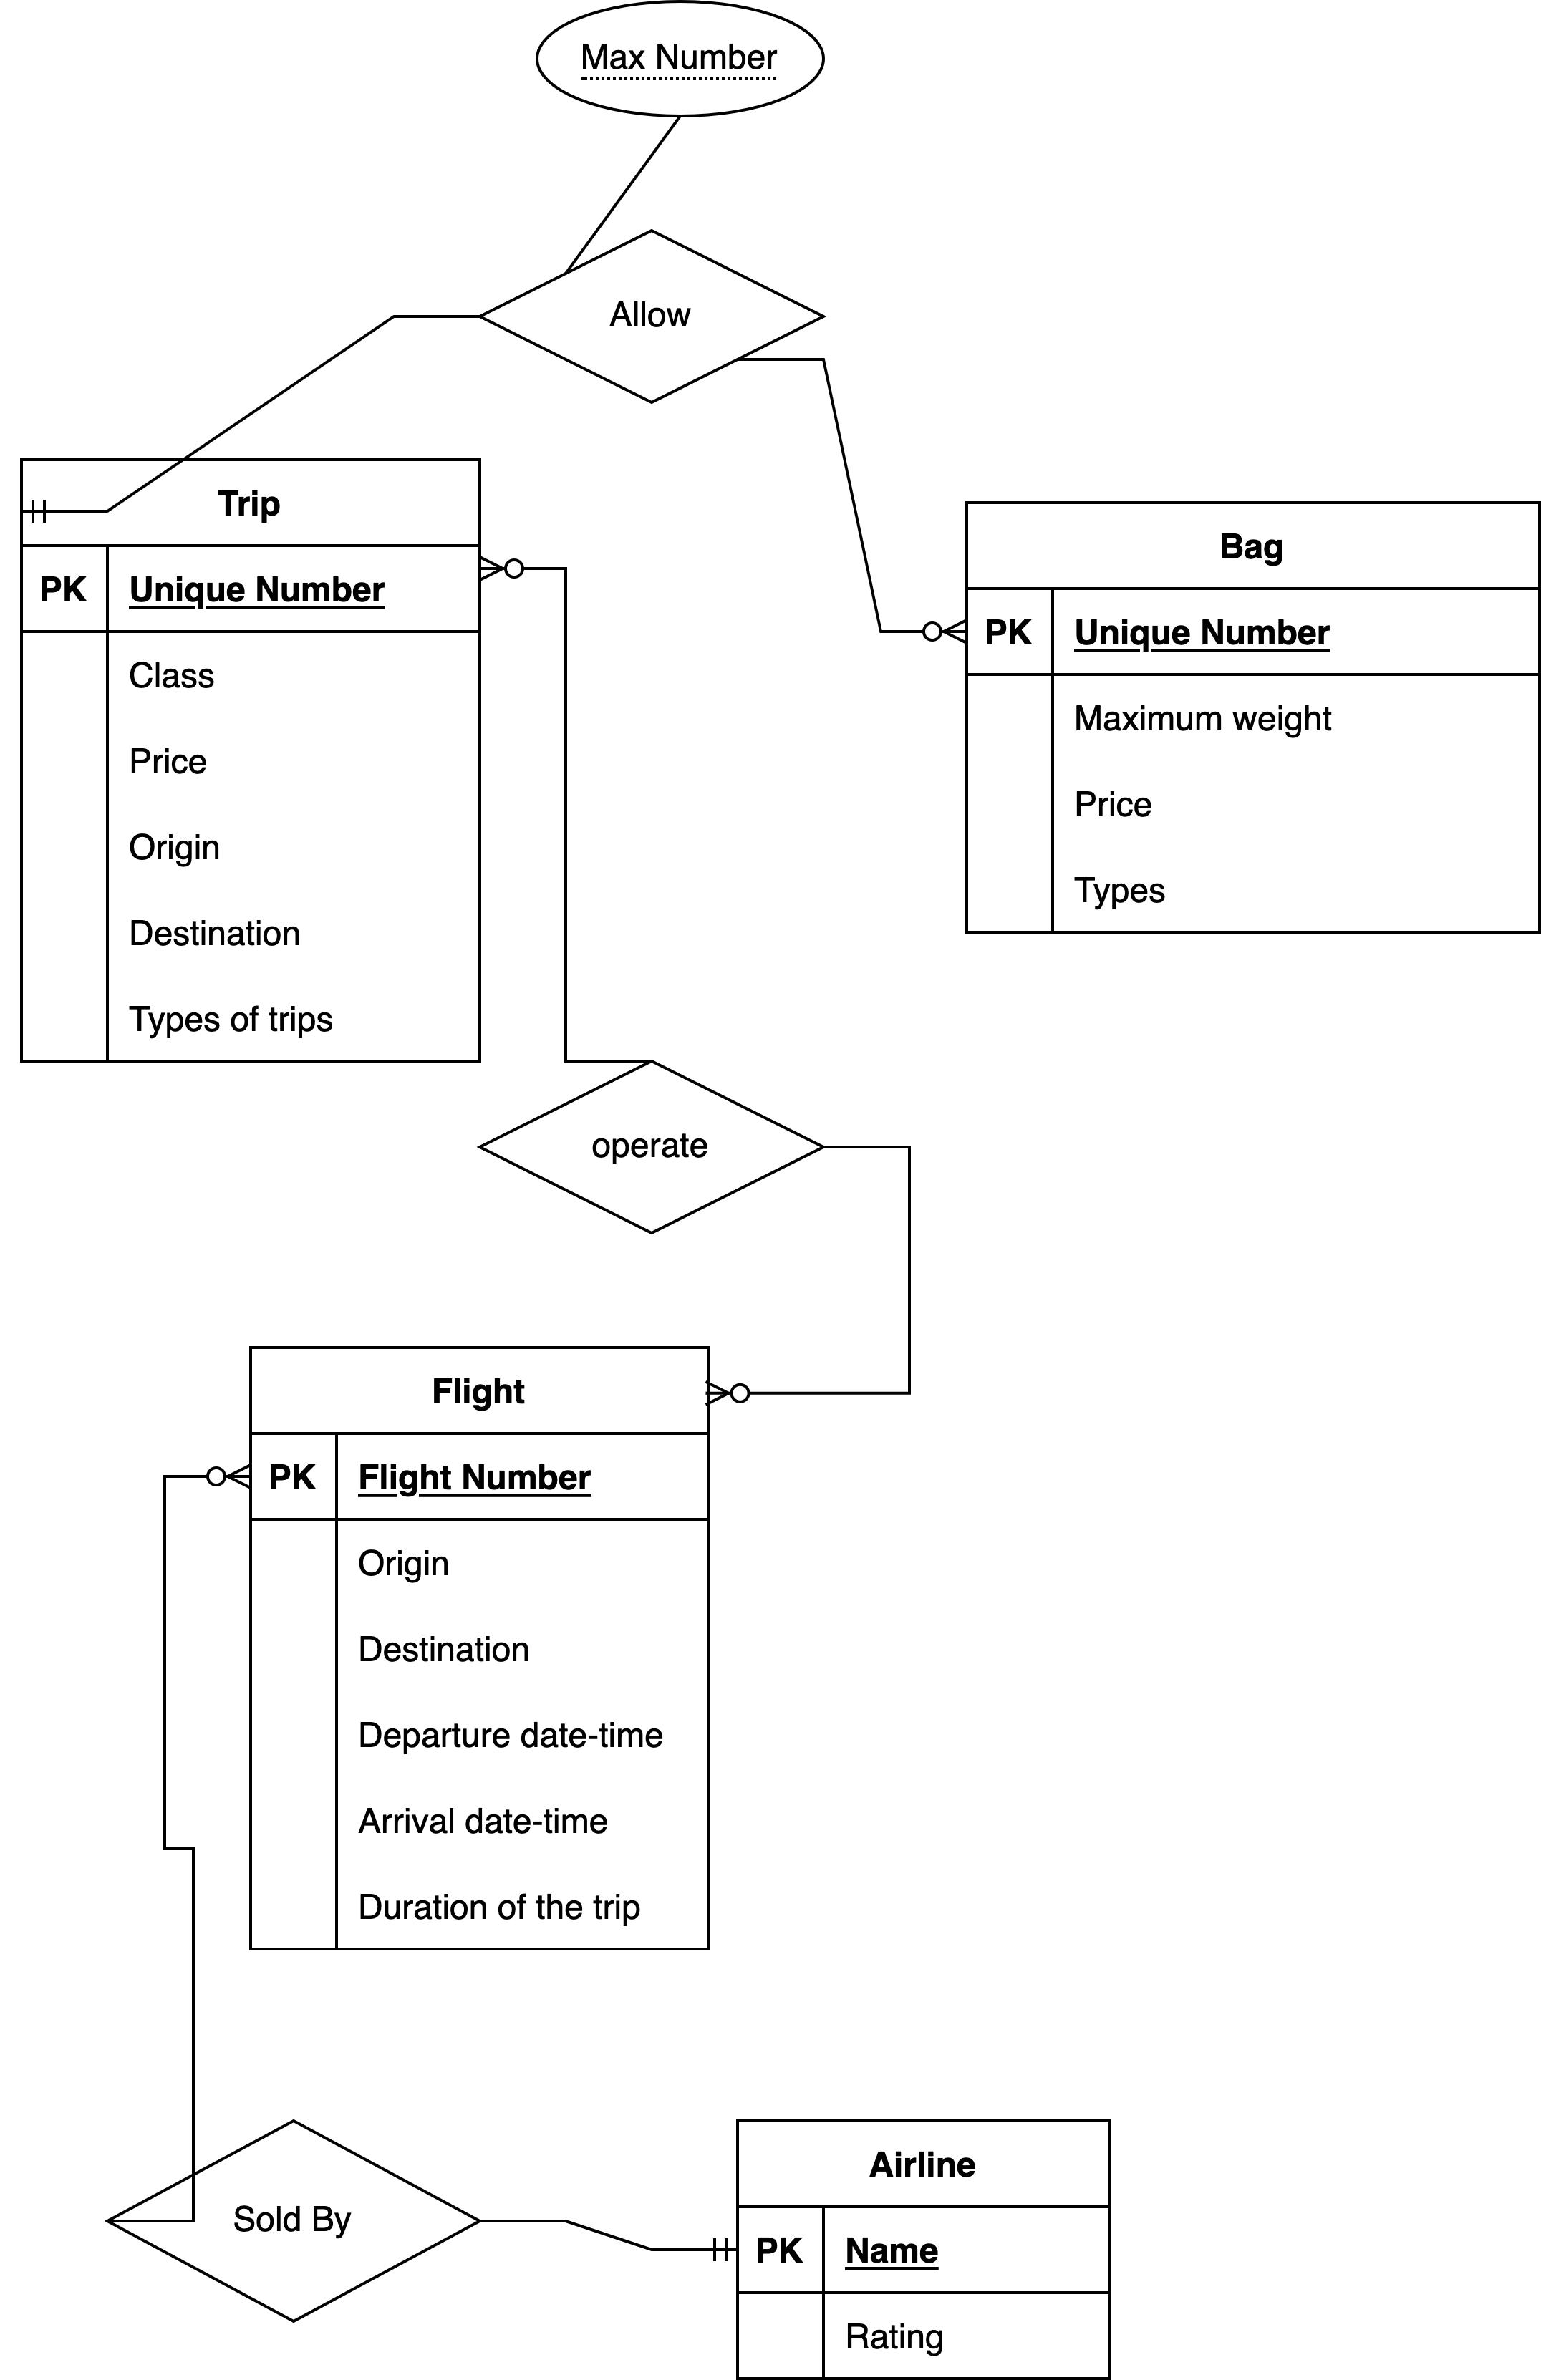attribute: (526, 0, 823, 127)
entity: (0, 460, 491, 1063), (241, 1336, 715, 1957), (956, 494, 1541, 942), (734, 2111, 1111, 2380)
relationship: (111, 2122, 477, 2321), (482, 1060, 828, 1232), (488, 231, 824, 402)
